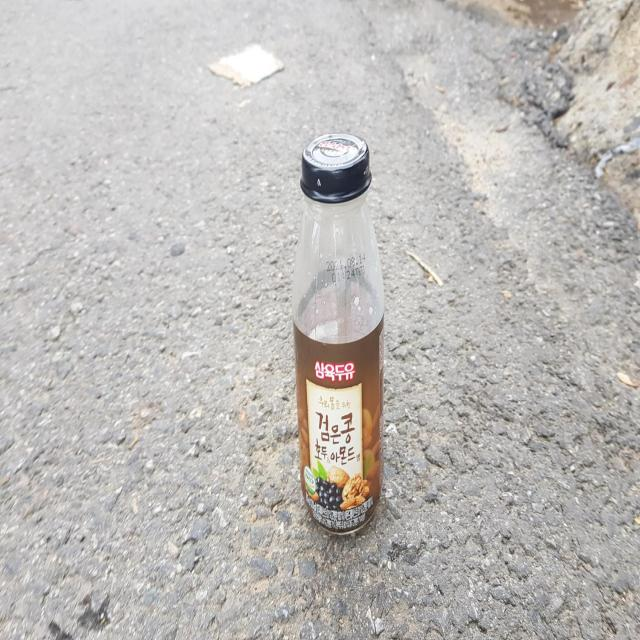glass: (292, 133, 385, 534)
